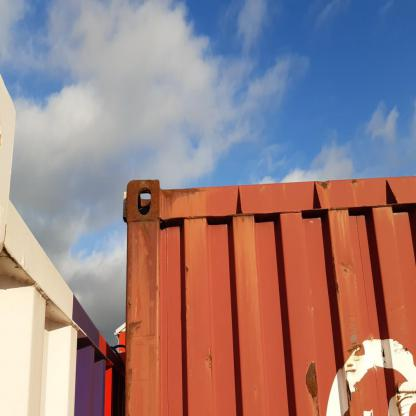CornerCasting: (122, 172, 166, 226)
